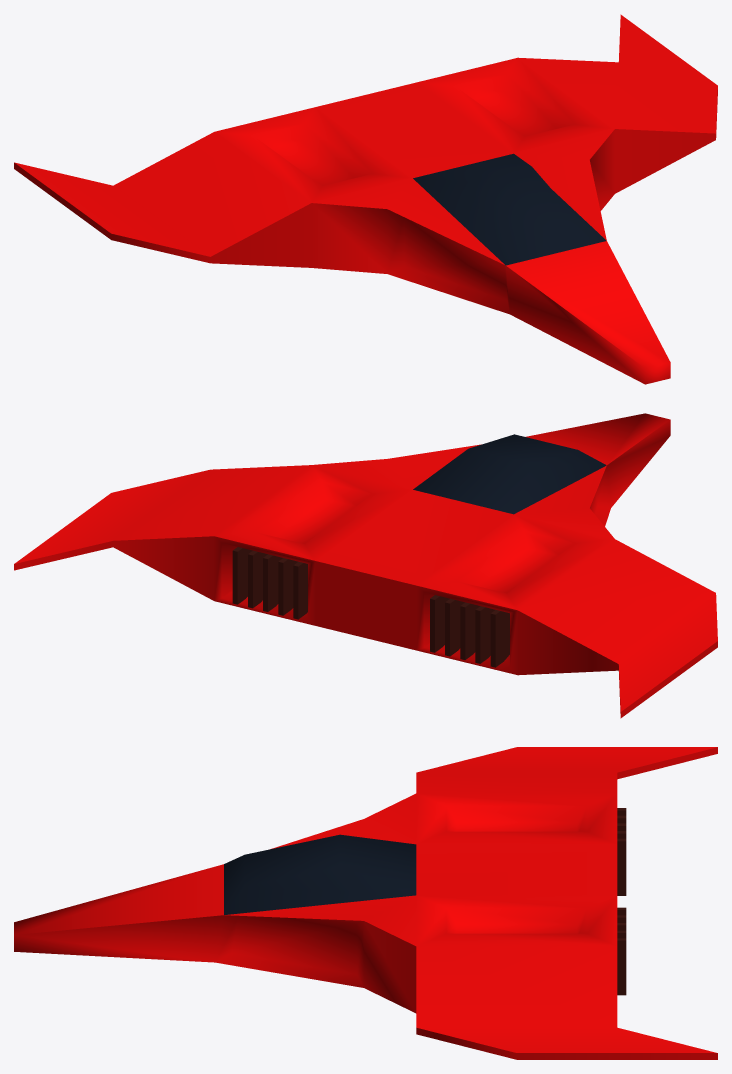
The model's file is Ship1.fbx.
The picture shows the model from 3 angles, top to bottom: view 1: azimuth 30°, elevation 25°; view 2: azimuth 150°, elevation 25°; view 3: azimuth 270°, elevation 25°; orthographic projection. The views are drawn at different scales.
Visible parts, largest first — view 1: Würfel, Würfel_1_3; view 2: Würfel, Würfel_1_3, Würfel_5, Würfel_4, Würfel_1_2, Würfel_4_2, Würfel_2, Würfel_3_2, Würfel_3, Würfel_1, Würfel_2_2, Würfel_5_2; view 3: Würfel, Würfel_1_3, Würfel_1, Würfel_1_2.
Boxes of the visible parts, x1,y1,x2,y2 form: Würfel: (14, 14, 717, 384); Würfel_1_3: (413, 153, 606, 265); Würfel: (14, 413, 717, 718); Würfel_1_3: (413, 434, 606, 514); Würfel_5: (490, 610, 509, 667); Würfel_4: (475, 606, 495, 663); Würfel_1_2: (232, 547, 252, 604); Würfel_4_2: (278, 558, 297, 615); Würfel_2: (445, 598, 464, 656); Würfel_3_2: (263, 554, 282, 611); Würfel_3: (460, 602, 479, 659); Würfel_1: (430, 595, 449, 652); Würfel_2_2: (248, 550, 267, 608); Würfel_5_2: (293, 561, 307, 619); Würfel: (14, 747, 717, 1059); Würfel_1_3: (224, 834, 416, 914); Würfel_1: (617, 838, 626, 895); Würfel_1_2: (617, 938, 626, 995).
Bounding box in the file's own units: 1200 × 173 × 1167.
